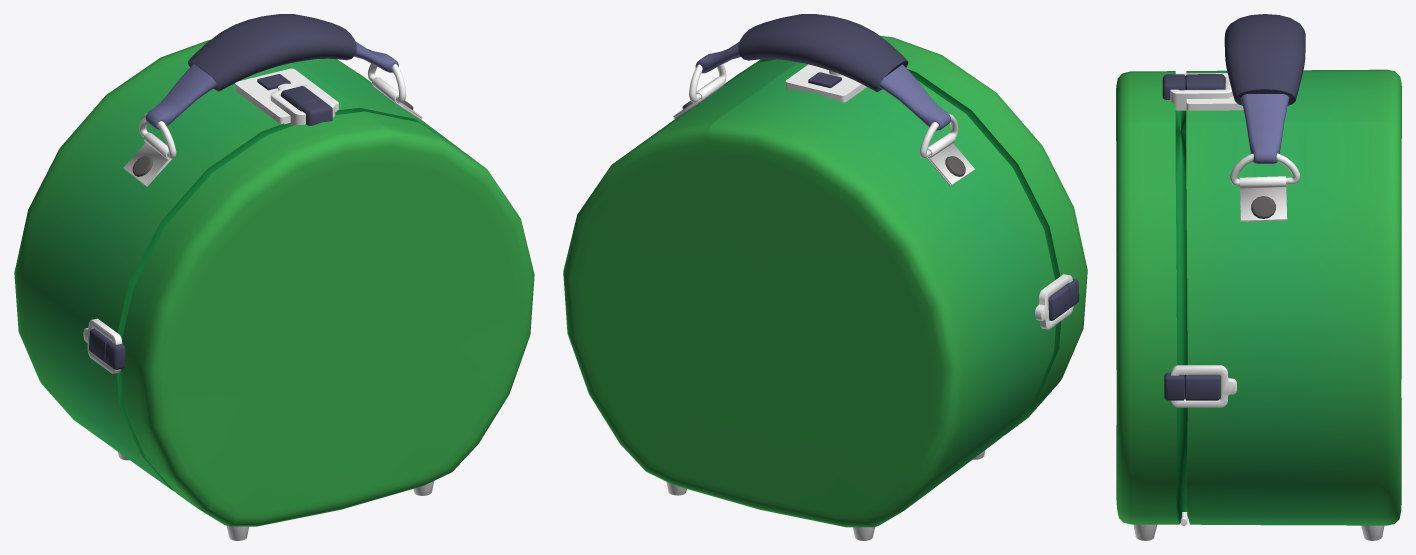
The model's file is Baggage_2_Green.fbx.
3 renders of one model, left to right at view 1: azimuth 30°, elevation 25°; view 2: azimuth 150°, elevation 25°; view 3: azimuth 270°, elevation 25°, orthographic. The views are drawn at different scales.
Parts seen in each view (by area): view 1: Baggage_2_Green; view 2: Baggage_2_Green; view 3: Baggage_2_Green.
Part boxes in pixels (x1=…): Baggage_2_Green: x1=14, y1=14, x2=534, y2=540; Baggage_2_Green: x1=563, y1=14, x2=1087, y2=540; Baggage_2_Green: x1=1116, y1=14, x2=1401, y2=540.
Size of the model in its own units: 61.05 by 63.5 by 35.5.
